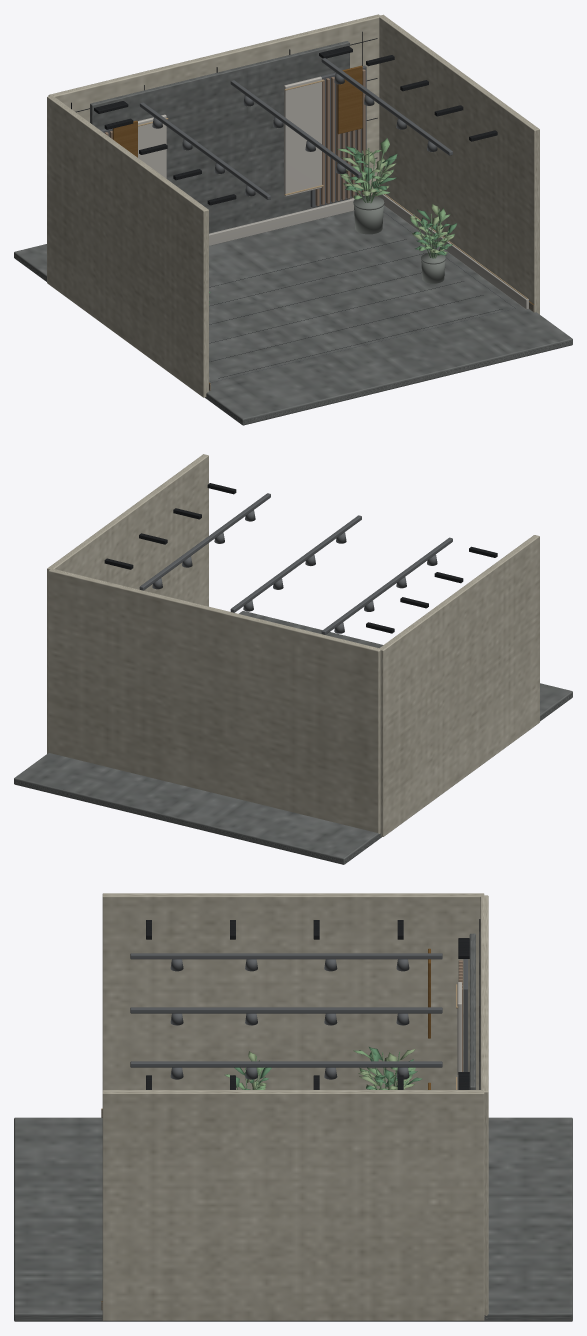
3 views of the same model, one above another, from view 1: azimuth 30°, elevation 25°; view 2: azimuth 150°, elevation 25°; view 3: azimuth 270°, elevation 25° (orthographic). The views are drawn at different scales.
Visible parts, largest first — view 1: Room floor, Left wall, Right wall, Floating seamless backdrop, Back wall, S01 framed wool acoustic backdrop.001, S01 rear continuous toe reveal, Studio daylight reflector frame.001, S01 sidewall continuous skirting.001, S01 framed wool acoustic backdrop, S01 walnut feature backing.001, S01 architectural linear ceiling track (+4 smaller); view 2: Back wall, Left wall, Room floor, Right wall, S01 architectural linear ceiling track.001, S01 architectural linear ceiling track.002, S01 architectural linear ceiling track; view 3: Right wall, Left wall, Room floor, Back wall, S01 architectural linear ceiling track, S01 architectural linear ceiling track.001, S01 architectural linear ceiling track.002, Floating seamless backdrop, S01 walnut feature backing.
Part boxes in pixels (bbox=[...]): Room floor: bbox=[14, 205, 572, 425]; Left wall: bbox=[47, 95, 208, 397]; Right wall: bbox=[379, 14, 539, 314]; Floating seamless backdrop: bbox=[90, 41, 349, 233]; Back wall: bbox=[48, 14, 380, 199]; S01 framed wool acoustic backdrop.001: bbox=[284, 76, 321, 196]; S01 rear continuous toe reveal: bbox=[209, 198, 354, 245]; Studio daylight reflector frame.001: bbox=[337, 65, 362, 134]; S01 sidewall continuous skirting.001: bbox=[377, 194, 528, 309]; S01 framed wool acoustic backdrop: bbox=[138, 114, 166, 178]; S01 walnut feature backing.001: bbox=[310, 65, 366, 207]; S01 architectural linear ceiling track: bbox=[139, 102, 270, 199]; Back wall: bbox=[48, 568, 380, 833]; Left wall: bbox=[379, 535, 539, 836]; Room floor: bbox=[14, 611, 572, 864]; Right wall: bbox=[47, 454, 208, 753]; S01 architectural linear ceiling track.001: bbox=[230, 515, 361, 612]; S01 architectural linear ceiling track.002: bbox=[139, 493, 270, 590]; S01 architectural linear ceiling track: bbox=[321, 537, 452, 634]; Right wall: bbox=[102, 1090, 484, 1320]; Left wall: bbox=[102, 893, 484, 1089]; Room floor: bbox=[14, 1117, 572, 1321]; Back wall: bbox=[480, 895, 488, 1318]; S01 architectural linear ceiling track: bbox=[130, 953, 442, 959]; S01 architectural linear ceiling track.001: bbox=[130, 1007, 442, 1013]; S01 architectural linear ceiling track.002: bbox=[130, 1061, 442, 1067]; Floating seamless backdrop: bbox=[469, 933, 475, 1089]; S01 walnut feature backing: bbox=[463, 959, 468, 1071].
Size of the model in its own units: 10.18 by 5.47 by 12.
17 materials, 5 textured.
